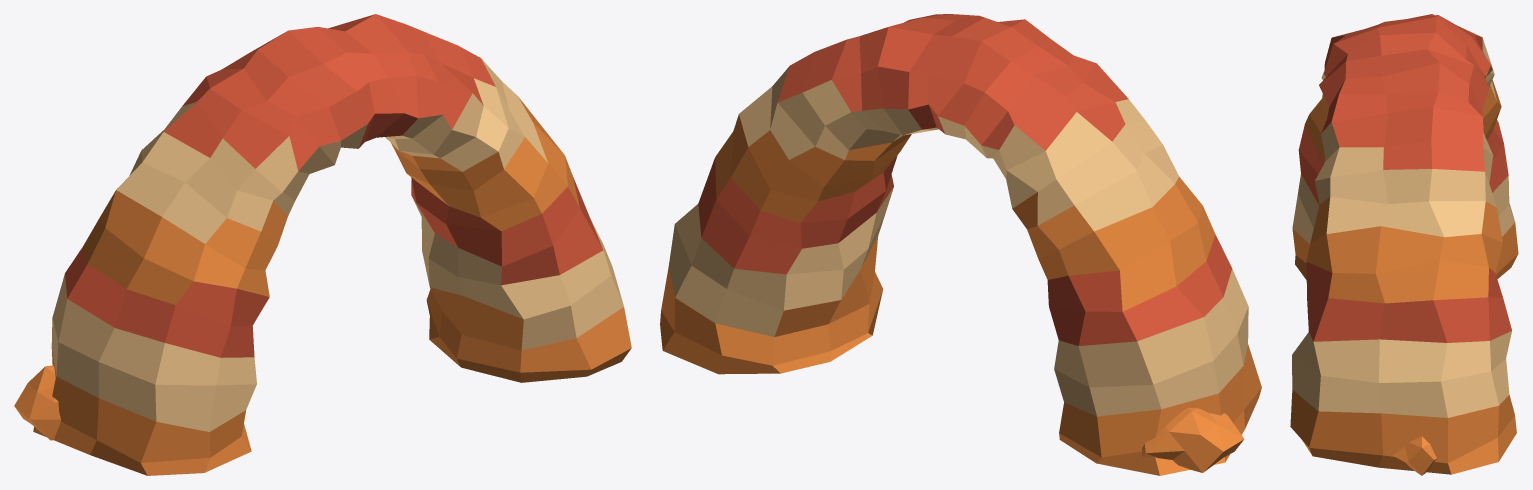
File: arch_rock.glb
3 renders of one model, left to right at view 1: azimuth 30°, elevation 25°; view 2: azimuth 150°, elevation 25°; view 3: azimuth 270°, elevation 25°, orthographic. The views are drawn at different scales.
Parts seen in each view (by area): view 1: arch_rock; view 2: arch_rock; view 3: arch_rock.
Part boxes in pixels (x1,y1,x2,y2): arch_rock: (14, 14, 631, 475); arch_rock: (660, 14, 1261, 475); arch_rock: (1290, 14, 1518, 475).
Bounding box in the file's own units: 23.78 × 13.78 × 8.91.
